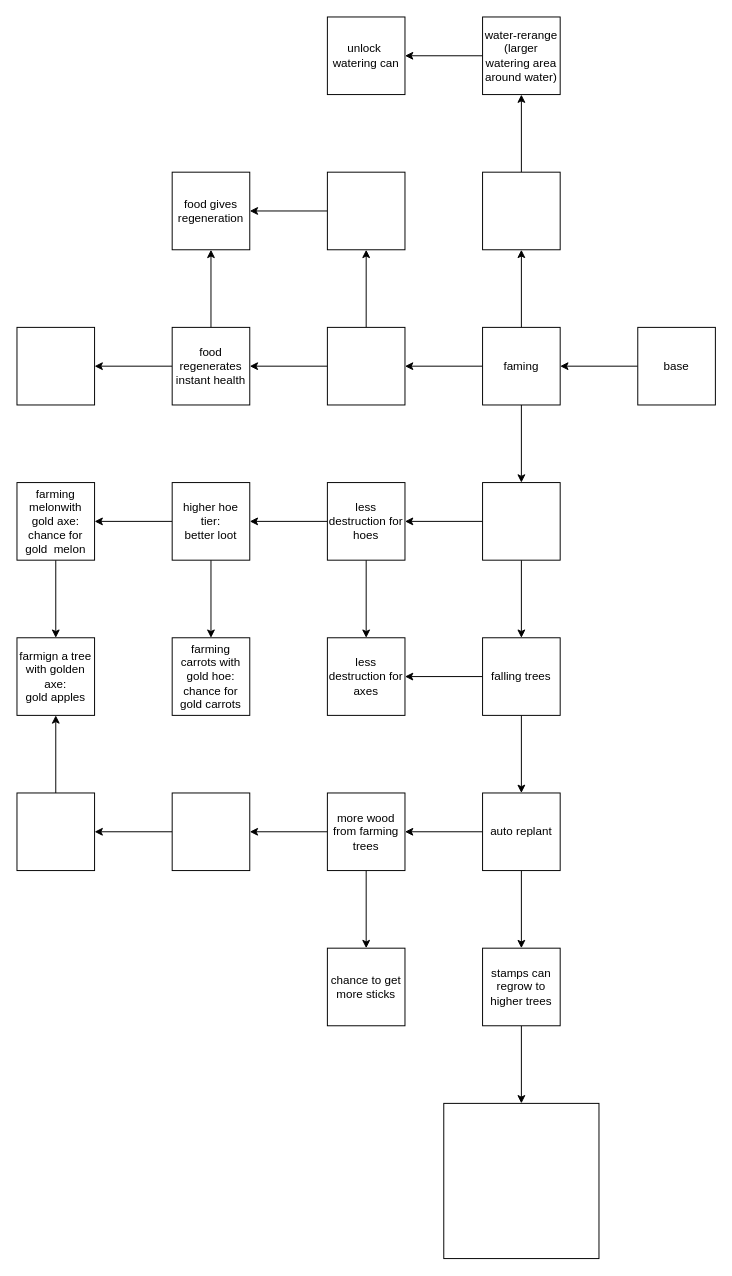
This 732x1276 diagram has some shape labels left out. Each missing label, with the centre of its shape:
"ABILITY: Tree Capalator catch mobs in tree cages" belongs at pixel 521 1180.
"chance to get more apples" belongs at pixel 55 831.
"chance to get strings from leaves" belongs at pixel 210 831.
"food is more efficent" belongs at pixel 365 365.
"give saturtatio when eating" belongs at pixel 365 210.
"more luck when farming" belongs at pixel 521 521.
"trample-skill (step on farmland)" belongs at pixel 521 210.
"vegtables gives more food when fresh" belongs at pixel 55 365.
